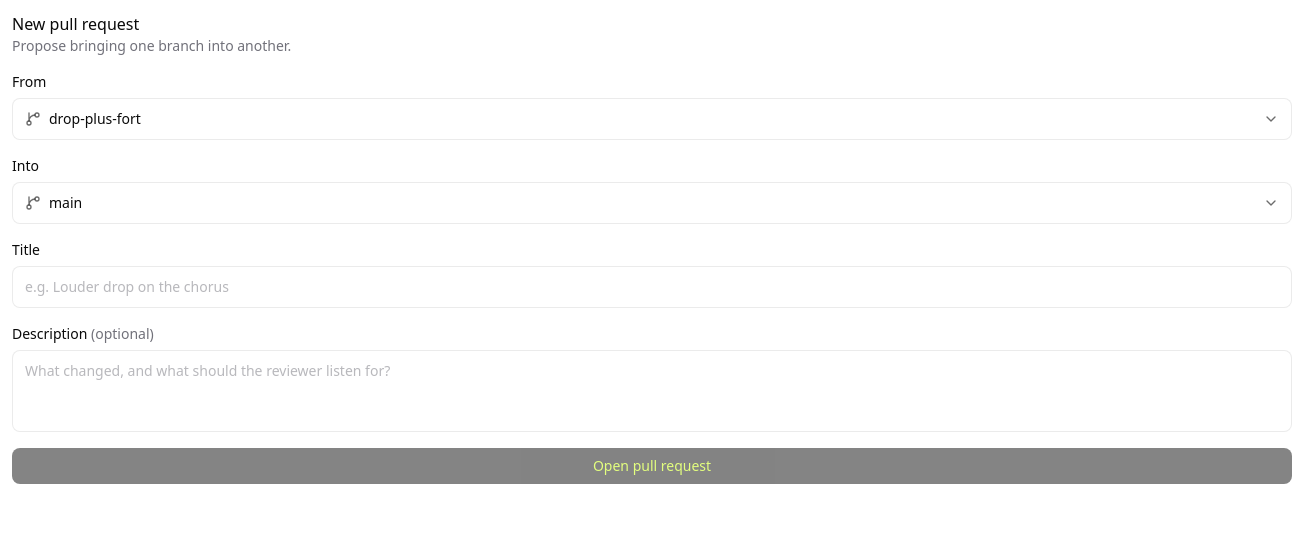
Test: NewPullRequestForm › uses StemHub's own branch list instead of the browser's menu
Click the button named "From".
click(95, 118)  # box [12,98,1292,140]
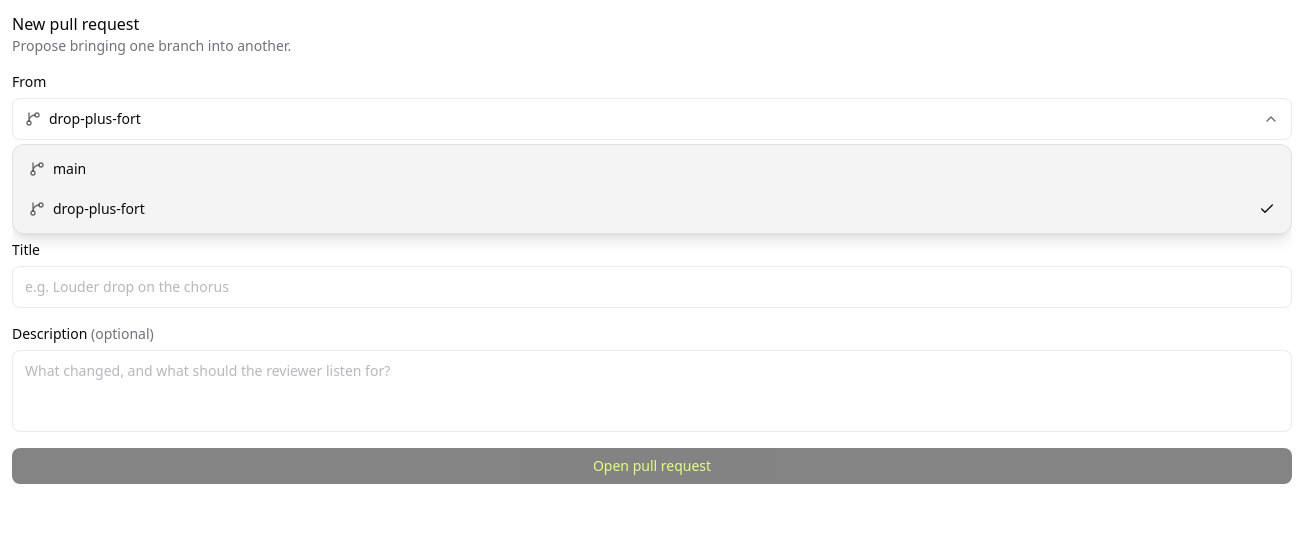
Click the option "main".
click(58, 168)  # box [29,159,86,178]
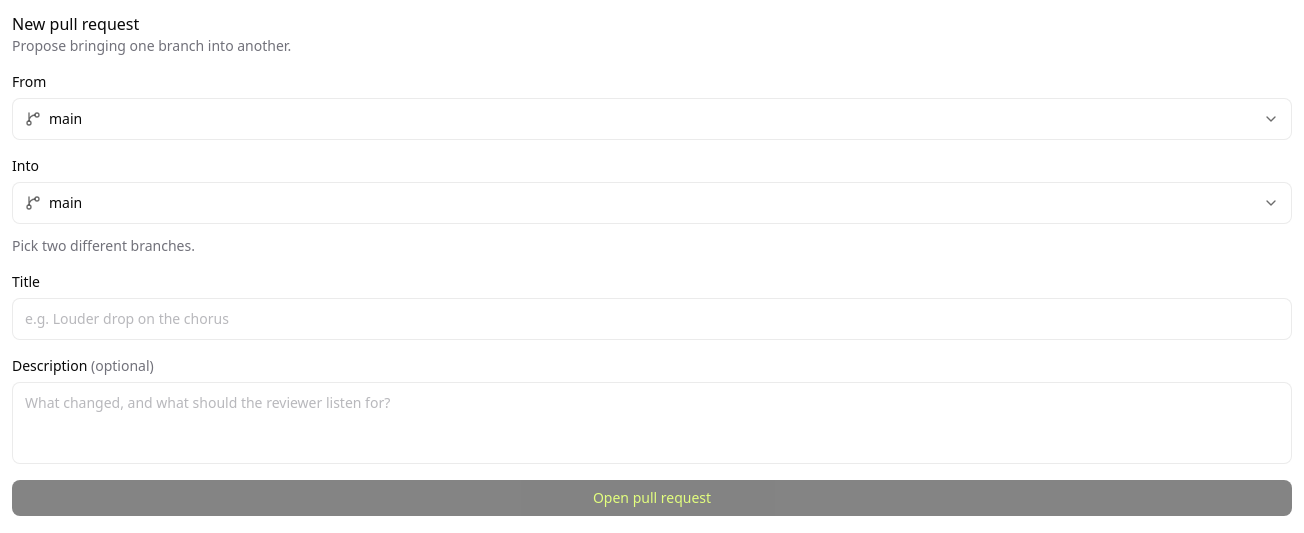
Expected: the list is gone
Expected: the button named "From" reads "main", [12,98,1292,140]
